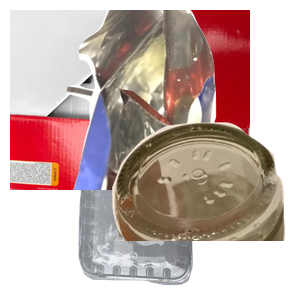cardboard: (10, 10, 250, 190)
glass: (89, 120, 300, 300)
plastic: (76, 162, 264, 300)
trash: (63, 10, 300, 190)
